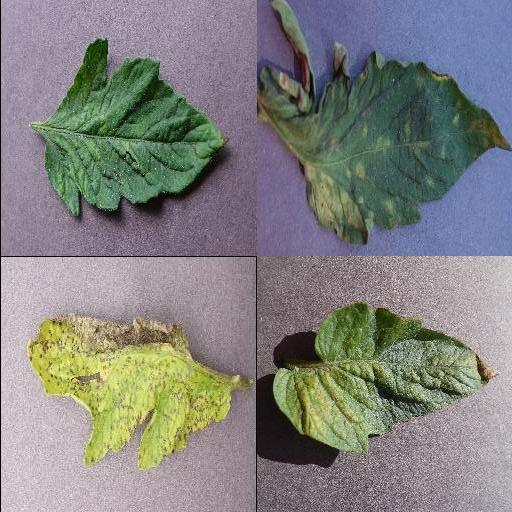Leaf Mold: (256, 43, 512, 247)
Mosaic Virus: (41, 36, 227, 220)
Septoria: (23, 314, 231, 470)
Spider Mites: (271, 302, 499, 454)
